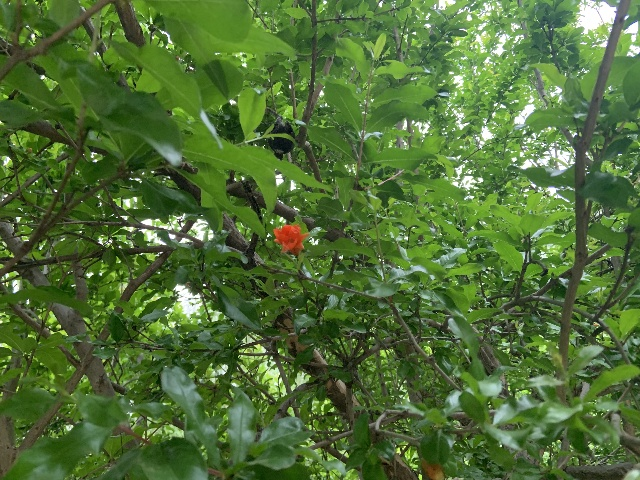flower: (272, 223, 309, 257)
